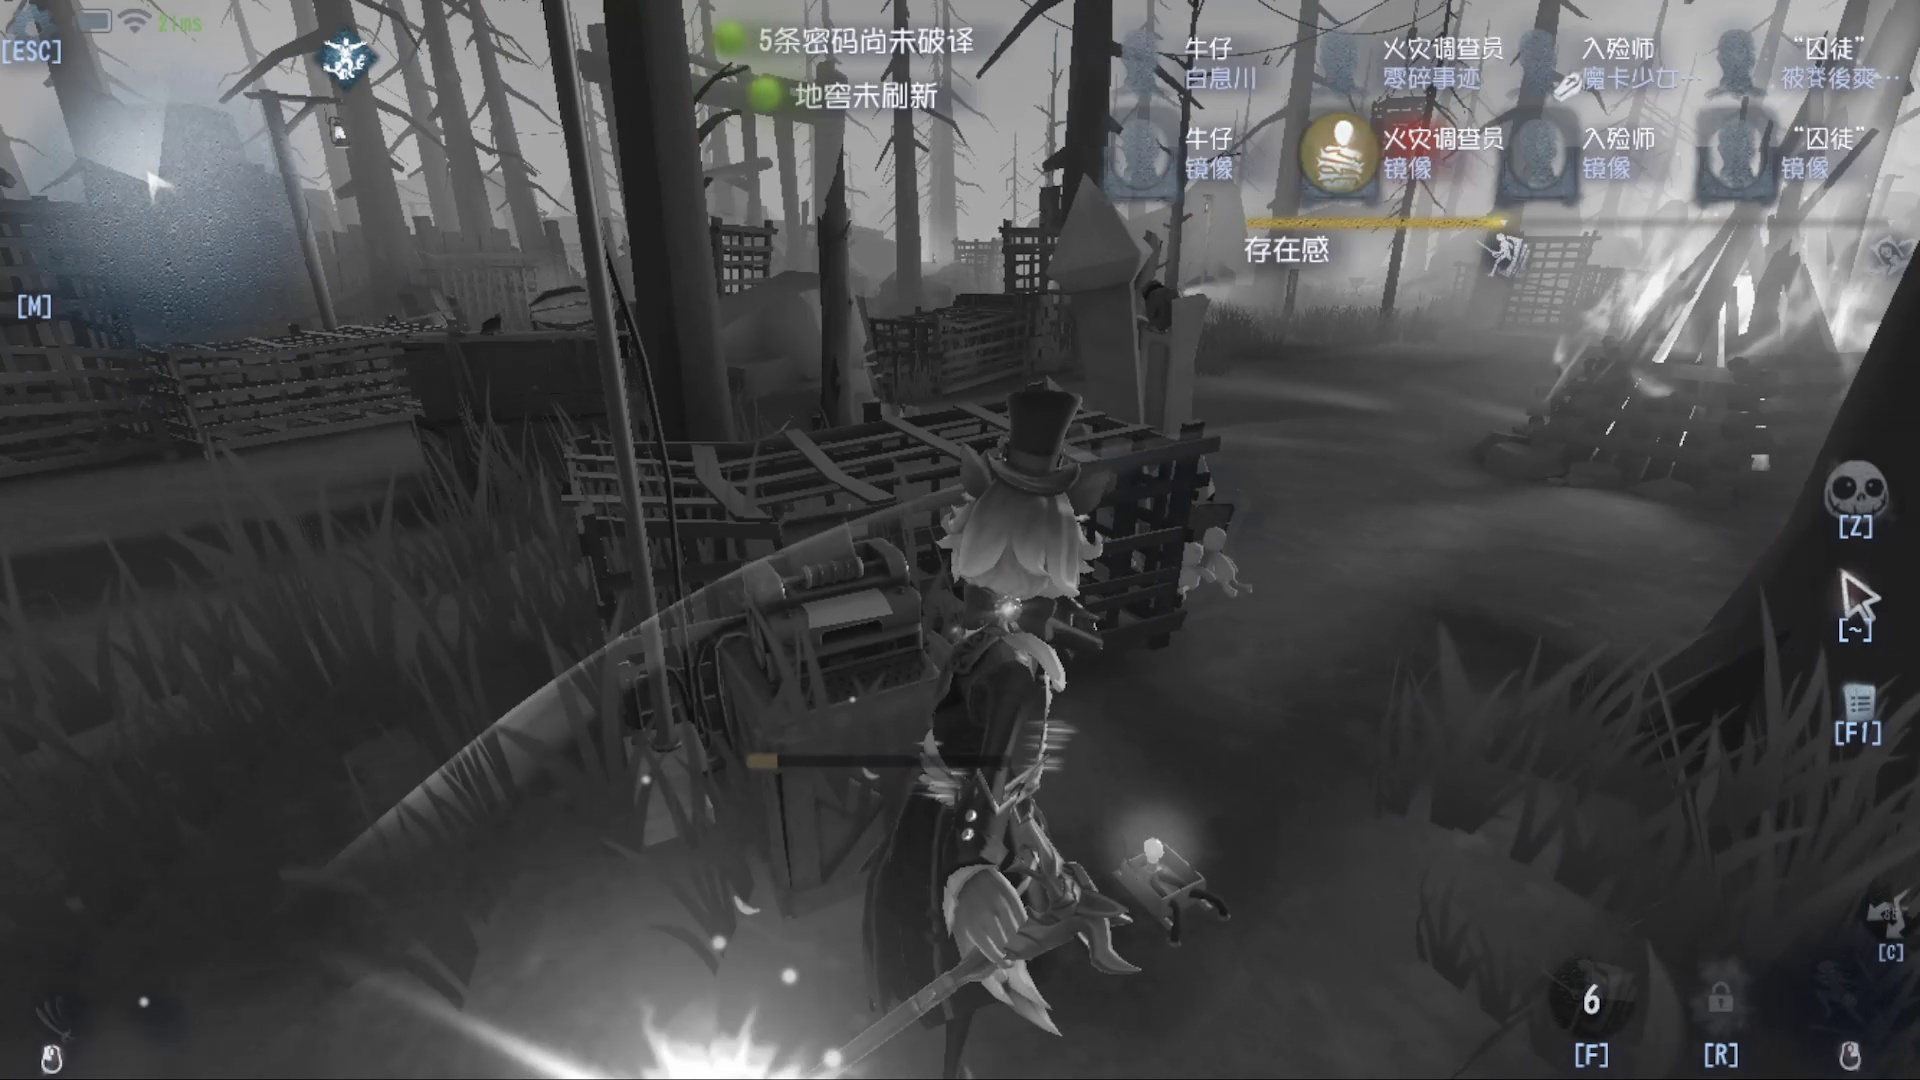密码机: (646, 504, 953, 873)
狂欢之椅: (1048, 195, 1232, 468)
